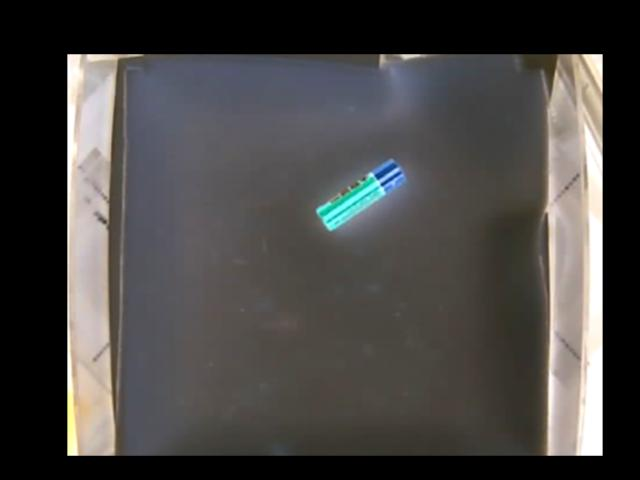Battery: (314, 157, 407, 230)
